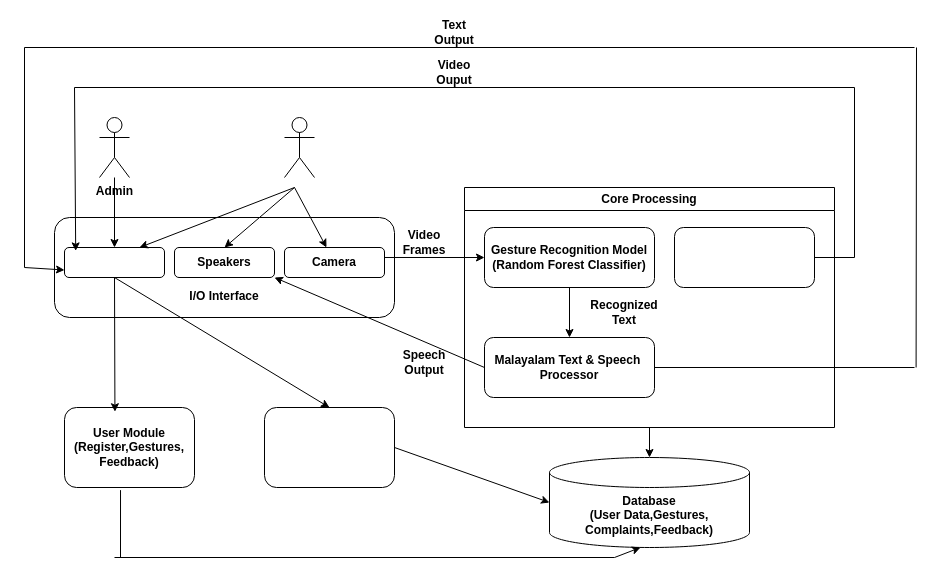
Image size: 935x583. Some labels were removed from this diagram. The shapes that lost their labels are listed below. From the top down, each one's centre as x and y in pixels, then its label:
point (299, 147): User
point (114, 262): User Interface
point (744, 257): Text to Gesture Recognition
point (329, 447): Admin Module (User Managment, Complaint Replies)
